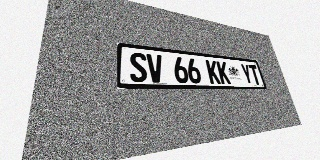6: (172, 56, 189, 83), (186, 58, 202, 84)
K: (205, 60, 221, 84), (216, 61, 231, 84)
S: (129, 52, 148, 82)
T: (248, 64, 262, 85)
V: (146, 54, 164, 83)
Y: (240, 64, 254, 85)
